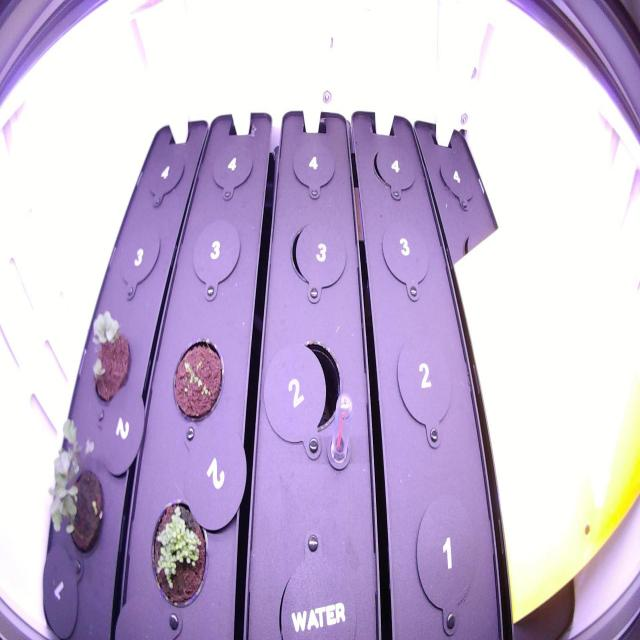empty_pod: (408, 484, 482, 617), (278, 333, 350, 444), (392, 326, 456, 434), (288, 212, 351, 297), (378, 212, 435, 298), (190, 215, 243, 296), (285, 132, 340, 202), (366, 136, 419, 206), (205, 133, 257, 200), (434, 143, 481, 214), (117, 222, 162, 293), (143, 140, 187, 208)
germination: (140, 491, 215, 613), (166, 332, 233, 431), (86, 305, 136, 410)
